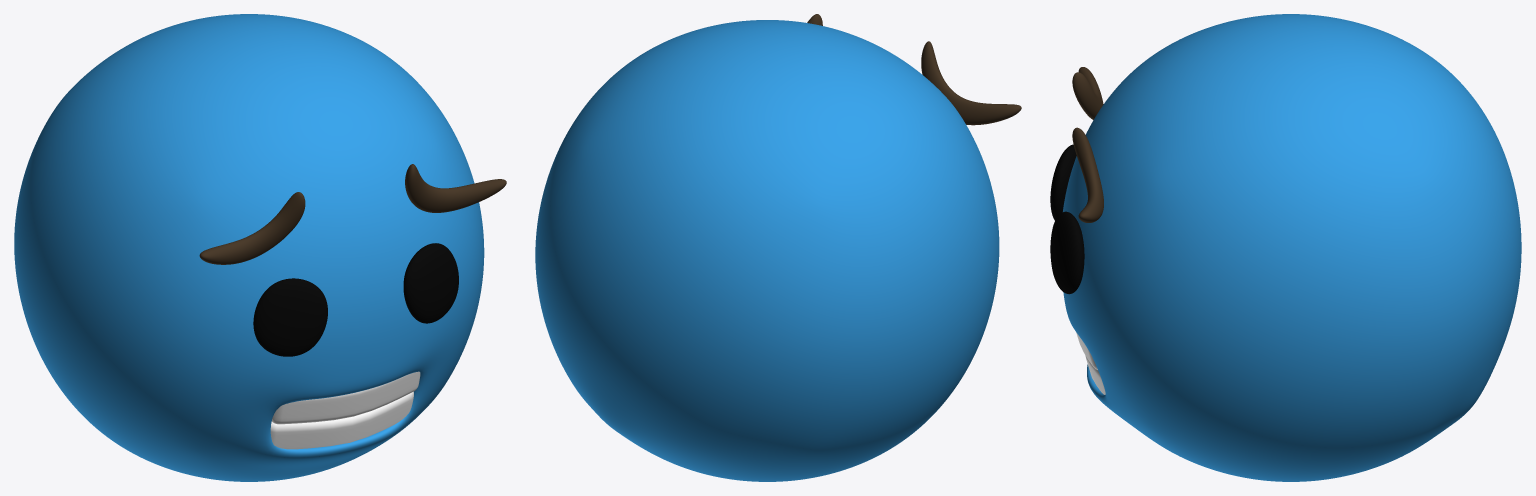
Rendered from Cold Face.glb.
3 renders of one model, left to right at view 1: azimuth 30°, elevation 25°; view 2: azimuth 150°, elevation 25°; view 3: azimuth 270°, elevation 25°, orthographic.
Visible parts, largest first — view 1: Cube.002_Cube.001, Cube_Cube.002, Cube.003_Cube.004, Cube.004_Cube.005, Cube.001_Cube.001; view 2: Cube.002_Cube.001, Cube.003_Cube.004; view 3: Cube.002_Cube.001, Cube_Cube.002, Cube.003_Cube.004.
Part boxes in pixels (x1,y1,x2,y2): Cube.002_Cube.001: [14, 14, 484, 481]; Cube_Cube.002: [253, 243, 458, 356]; Cube.003_Cube.004: [199, 164, 506, 264]; Cube.004_Cube.005: [270, 392, 413, 449]; Cube.001_Cube.001: [271, 371, 420, 424]; Cube.002_Cube.001: [535, 20, 999, 481]; Cube.003_Cube.004: [807, 14, 1021, 125]; Cube.002_Cube.001: [1063, 14, 1521, 481]; Cube_Cube.002: [1050, 144, 1084, 294]; Cube.003_Cube.004: [1072, 67, 1103, 222].
Size of the model in its own units: 1.66 by 1.66 by 1.7.
